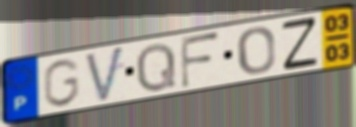F: (179, 30, 223, 91)
G: (40, 57, 82, 109)
O: (235, 25, 277, 77)
Q: (134, 40, 178, 94)
V: (83, 43, 127, 105)
Z: (279, 14, 321, 73)
